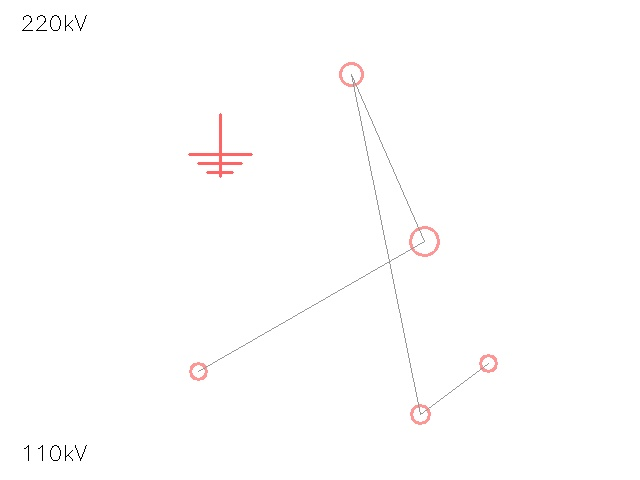feeder_terminal: (329, 52, 373, 96)
ground: (189, 114, 251, 176)
surge_arrester: (402, 396, 438, 432), (471, 346, 505, 380), (182, 355, 214, 387)
voltage_transformer: (395, 212, 453, 270)
